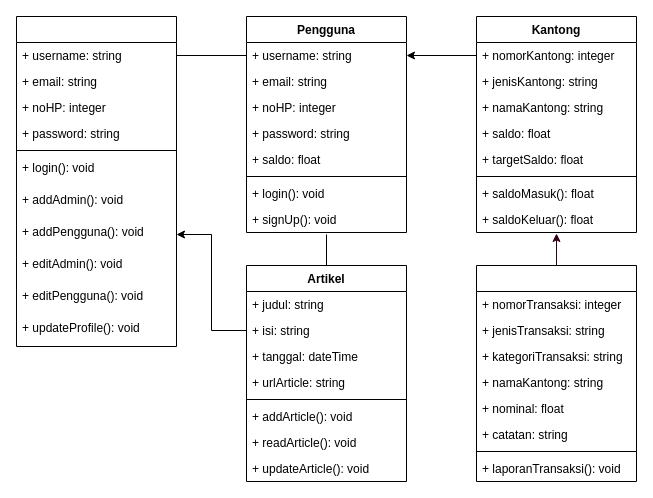
The diagram is 653 pixels wide and 498 high, and some of its shapes have lost their labels. Here are the shapes that lost their labels. From the top down, the box of each, then its label:
(16, 16, 176, 346): Admin/ System
(476, 264, 636, 482): Keuangan
